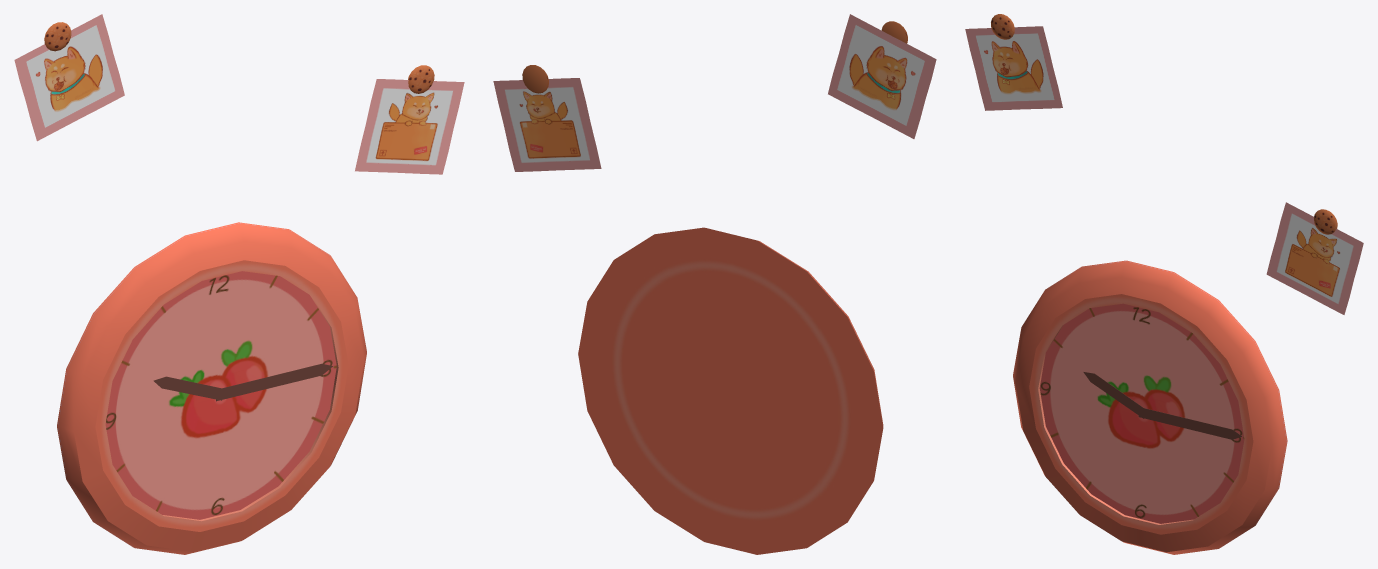
File: Clock & STICKY.fbx
3 views of the same model, side by side, from view 1: azimuth 30°, elevation 25°; view 2: azimuth 150°, elevation 25°; view 3: azimuth 330°, elevation 25° (orthographic). The views are drawn at different scales.
Visible parts, largest first — view 1: Clock, Magnet sticker.002, Magnet sticker.001; view 2: Clock, Magnet sticker.001, Magnet sticker.002; view 3: Clock, Magnet sticker.001, Magnet sticker.002.
Boxes of the visible parts, box(x1,y1,x2,y2) form: Clock: box(57, 222, 366, 554); Magnet sticker.002: box(355, 65, 464, 174); Magnet sticker.001: box(14, 14, 124, 141); Clock: box(578, 227, 883, 554); Magnet sticker.001: box(828, 14, 936, 138); Magnet sticker.002: box(493, 65, 601, 171); Clock: box(1013, 260, 1287, 554); Magnet sticker.001: box(965, 14, 1062, 110); Magnet sticker.002: box(1266, 202, 1363, 314).
Size of the model in its own units: 80.91 by 97.86 by 3.19.
